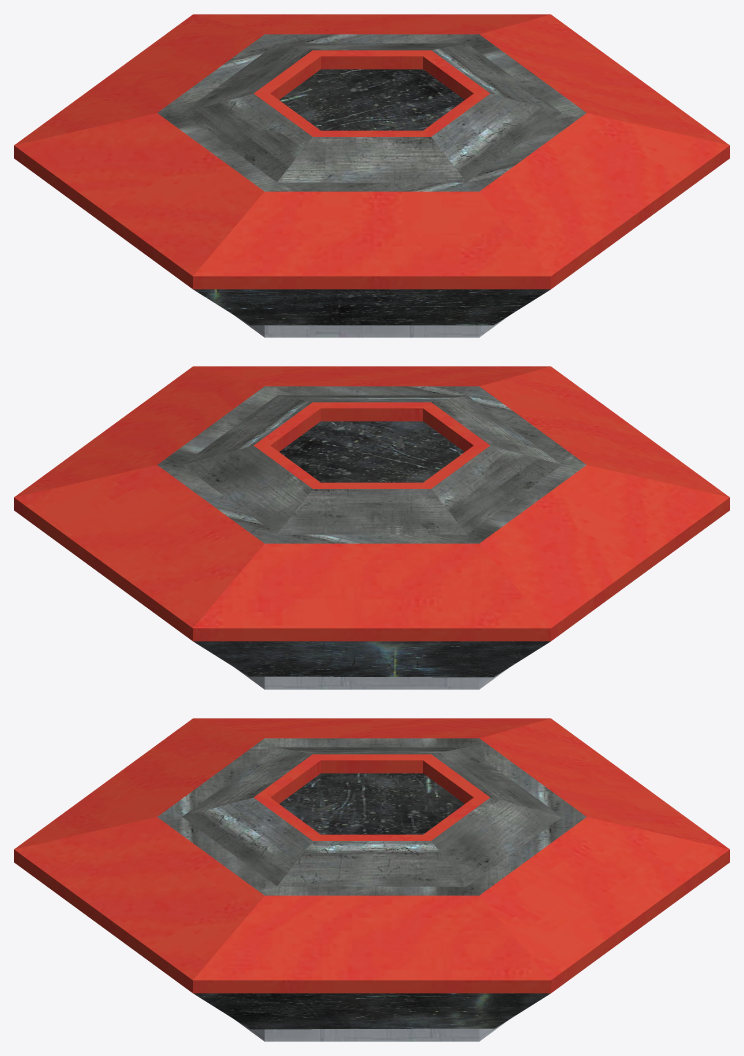
The model's file is UFO[载具]贴图版.fbx.
3 views of the same model, one above another, from view 1: azimuth 30°, elevation 25°; view 2: azimuth 150°, elevation 25°; view 3: azimuth 270°, elevation 25° (orthographic).
Visible parts, largest first — view 1: Group1; view 2: Group1; view 3: Group1.
Part boxes in pixels (box(x1,y1,x2,y2)): Group1: box(14, 14, 729, 337); Group1: box(14, 366, 729, 689); Group1: box(14, 718, 729, 1041).
Bounding box in the file's own units: 8.66 × 2.85 × 10.
